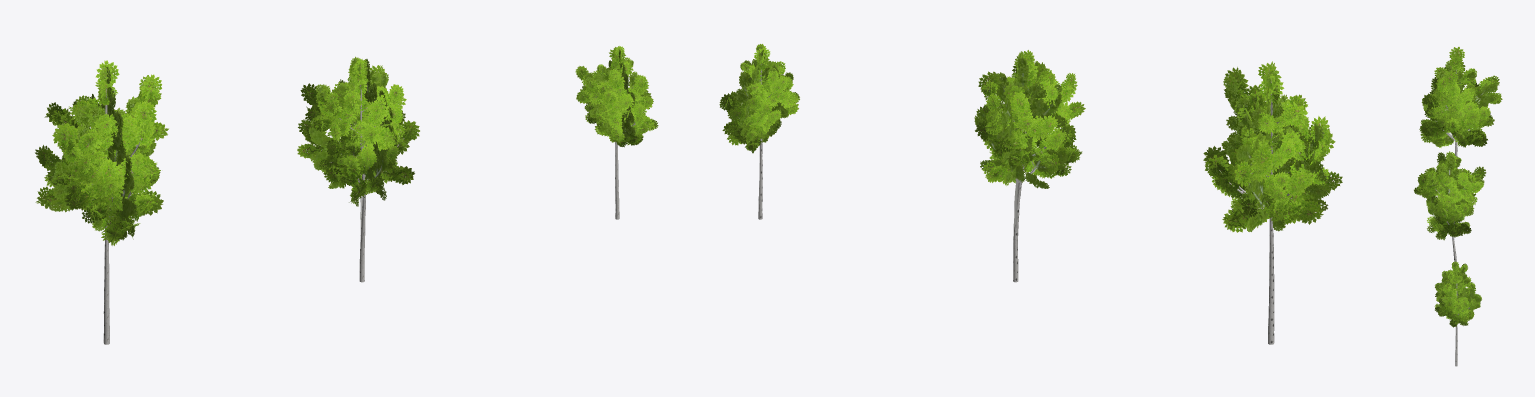
File: tree_birch.glb
3 views of the same model, side by side, from view 1: azimuth 30°, elevation 25°; view 2: azimuth 150°, elevation 25°; view 3: azimuth 270°, elevation 25° (orthographic). The views are drawn at different scales.
Parts seen in each view (by area): view 1: birch_v0_LOD1_leaves, birch_v1_LOD1_leaves, birch_v0_LOD0_leaves, birch_v1_LOD0_leaves, birch_v0_LOD2_impostor, birch_v2_LOD1_leaves, birch_v1_LOD2_impostor, birch_v2_LOD0_leaves, birch_v2_LOD2_impostor; view 2: birch_v0_LOD1_leaves, birch_v0_LOD0_leaves, birch_v1_LOD1_leaves, birch_v0_LOD2_impostor, birch_v1_LOD0_leaves, birch_v1_LOD2_impostor, birch_v2_LOD1_leaves, birch_v2_LOD0_leaves, birch_v2_LOD2_impostor; view 3: birch_v0_LOD1_leaves, birch_v1_LOD1_leaves, birch_v0_LOD0_leaves, birch_v1_LOD0_leaves, birch_v2_LOD1_leaves, birch_v0_LOD2_impostor, birch_v2_LOD0_leaves, birch_v1_LOD2_impostor, birch_v2_LOD2_impostor.
Part boxes in pixels (x1,y1,x2,y2): birch_v0_LOD1_leaves: (35,60,168,245); birch_v1_LOD1_leaves: (297,58,419,200); birch_v0_LOD0_leaves: (39,64,164,242); birch_v1_LOD0_leaves: (300,60,416,206); birch_v0_LOD2_impostor: (49,66,159,304); birch_v2_LOD1_leaves: (575,46,658,147); birch_v1_LOD2_impostor: (308,56,403,248); birch_v2_LOD0_leaves: (576,48,656,144); birch_v2_LOD2_impostor: (578,46,650,186); birch_v0_LOD1_leaves: (1203,61,1335,232); birch_v0_LOD0_leaves: (1206,66,1342,228); birch_v1_LOD1_leaves: (975,50,1085,183); birch_v0_LOD2_impostor: (1221,65,1328,306); birch_v1_LOD0_leaves: (978,52,1082,182); birch_v1_LOD2_impostor: (974,51,1069,248); birch_v2_LOD1_leaves: (719,44,798,153); birch_v2_LOD0_leaves: (722,45,799,151); birch_v2_LOD2_impostor: (729,46,799,203); birch_v0_LOD1_leaves: (1419,47,1502,147); birch_v1_LOD1_leaves: (1416,151,1486,240); birch_v0_LOD0_leaves: (1420,49,1500,145); birch_v1_LOD0_leaves: (1414,153,1483,238); birch_v2_LOD1_leaves: (1435,261,1481,327); birch_v0_LOD2_impostor: (1420,50,1499,151); birch_v2_LOD0_leaves: (1435,263,1481,326); birch_v1_LOD2_impostor: (1414,155,1484,256); birch_v2_LOD2_impostor: (1434,264,1481,351).
Bounding box in the file's own units: 31.03 × 13.06 × 8.69.
Materials: 4 (4 with a texture image).
